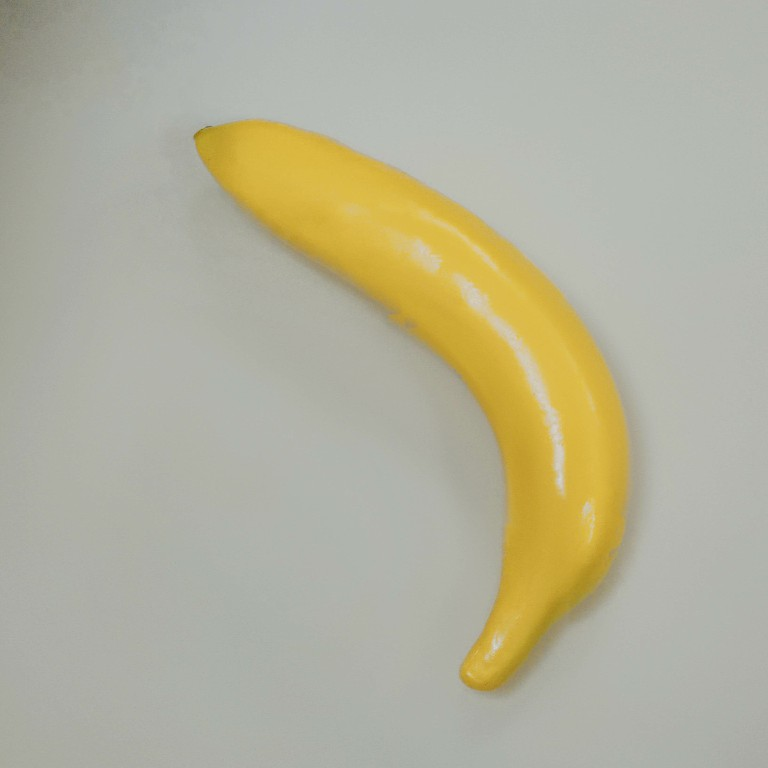fruit_banana: (189, 116, 637, 697)
